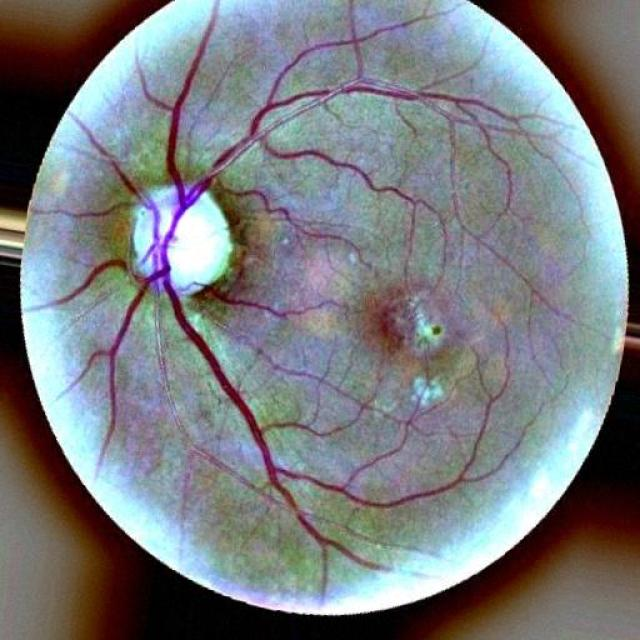Macula: (363, 298, 421, 354)
Nerves: (31, 0, 468, 569), (75, 11, 511, 545), (239, 332, 336, 389), (279, 82, 410, 105), (40, 202, 129, 219)
Optic Disk: (135, 186, 231, 288)
